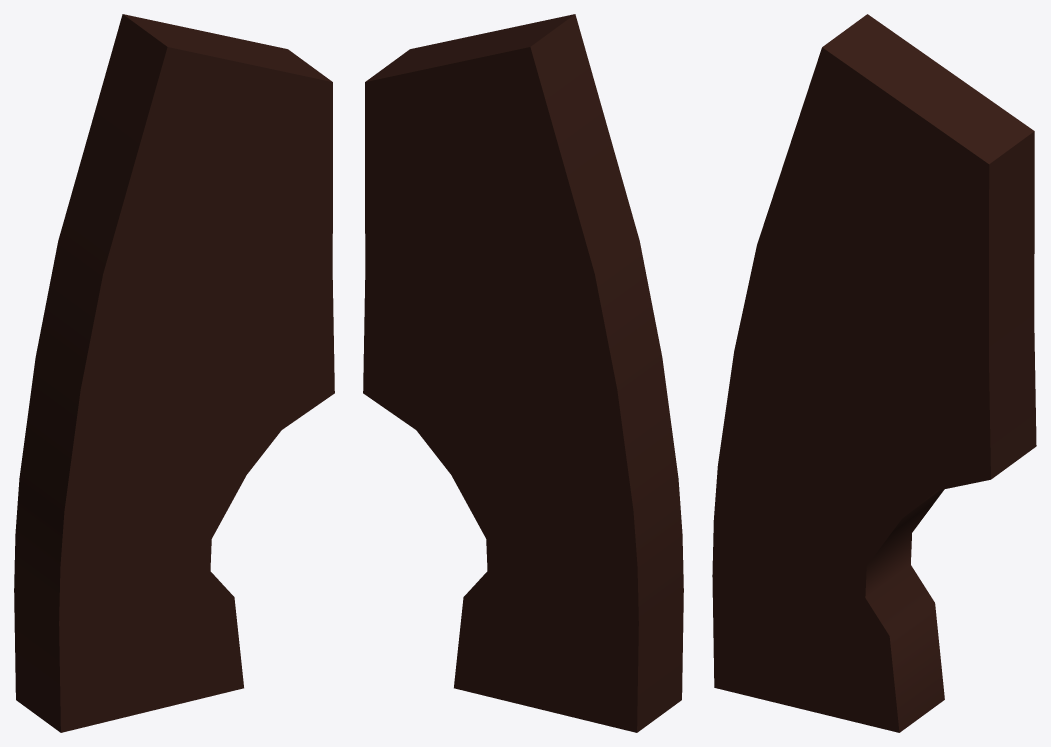
File: 2 - Bullion Stone.FBX
3 renders of one model, left to right at view 1: azimuth 30°, elevation 25°; view 2: azimuth 150°, elevation 25°; view 3: azimuth 330°, elevation 25°, orthographic.
Visible parts, largest first — view 1: Box002; view 2: Box002; view 3: Box002.
Part boxes in pixels (x1,y1,x2,y2): Box002: (14,14,334,732); Box002: (363,14,683,732); Box002: (712,14,1036,732).
Bounding box in the file's own units: 48.99 × 112 × 13.84.
